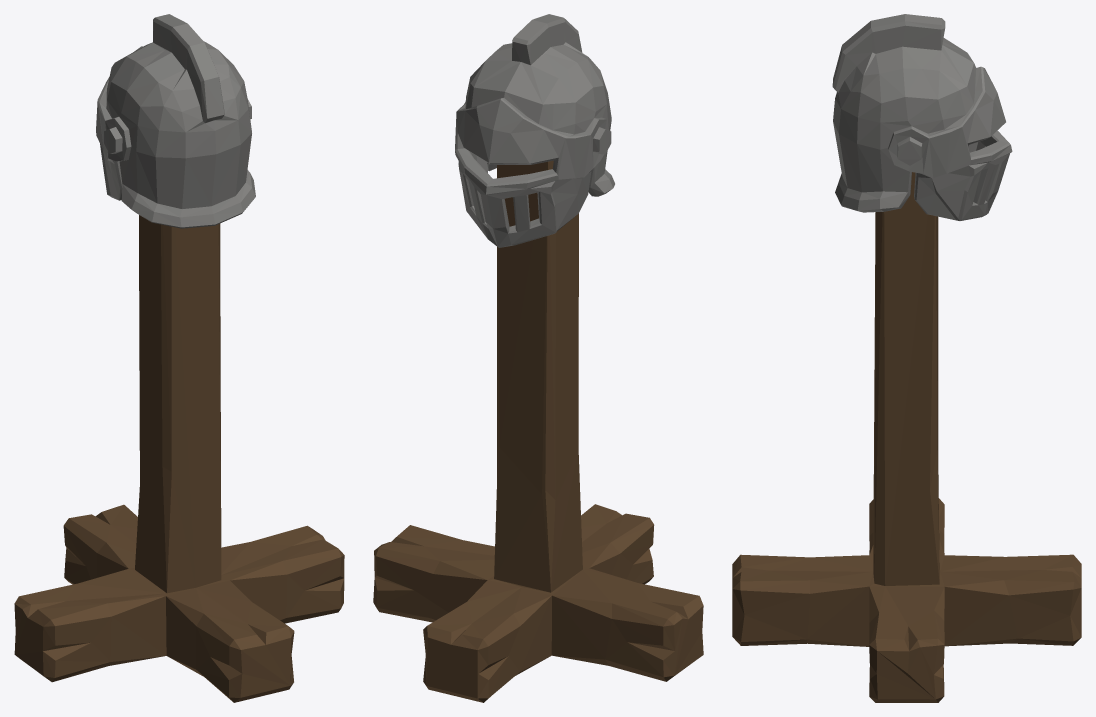
The model's file is IronHelmetOnStand.fbx.
3 views of the same model, side by side, from view 1: azimuth 30°, elevation 25°; view 2: azimuth 150°, elevation 25°; view 3: azimuth 270°, elevation 25° (orthographic).
Visible parts, largest first — view 1: IronHelmetOnStand; view 2: IronHelmetOnStand; view 3: IronHelmetOnStand.
Boxes of the visible parts, <box> form: IronHelmetOnStand: <box>14,14,344,702</box>; IronHelmetOnStand: <box>373,14,703,702</box>; IronHelmetOnStand: <box>732,14,1081,702</box>.
Bounding box in the file's own units: 0.6459 × 0.6436 × 1.25.
